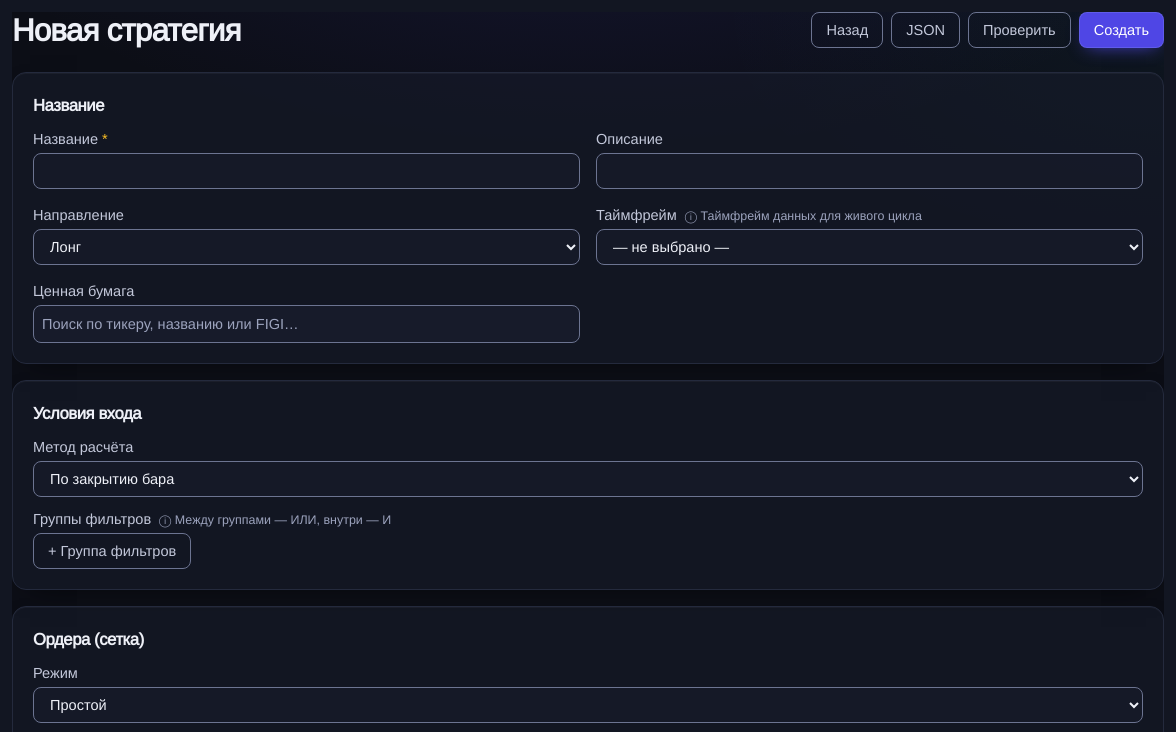
Scenario: MVP-7.5 U9: «Ценная бумага» › пустой выбор — ошибка бэкенда привязана к полю «Ценная бумага»
Check: the heading "Новая стратегия" is shown, box left=12, top=12, right=241, bottom=48
Click the button "Проверить" at (1019, 30), box left=968, top=12, right=1071, bottom=48
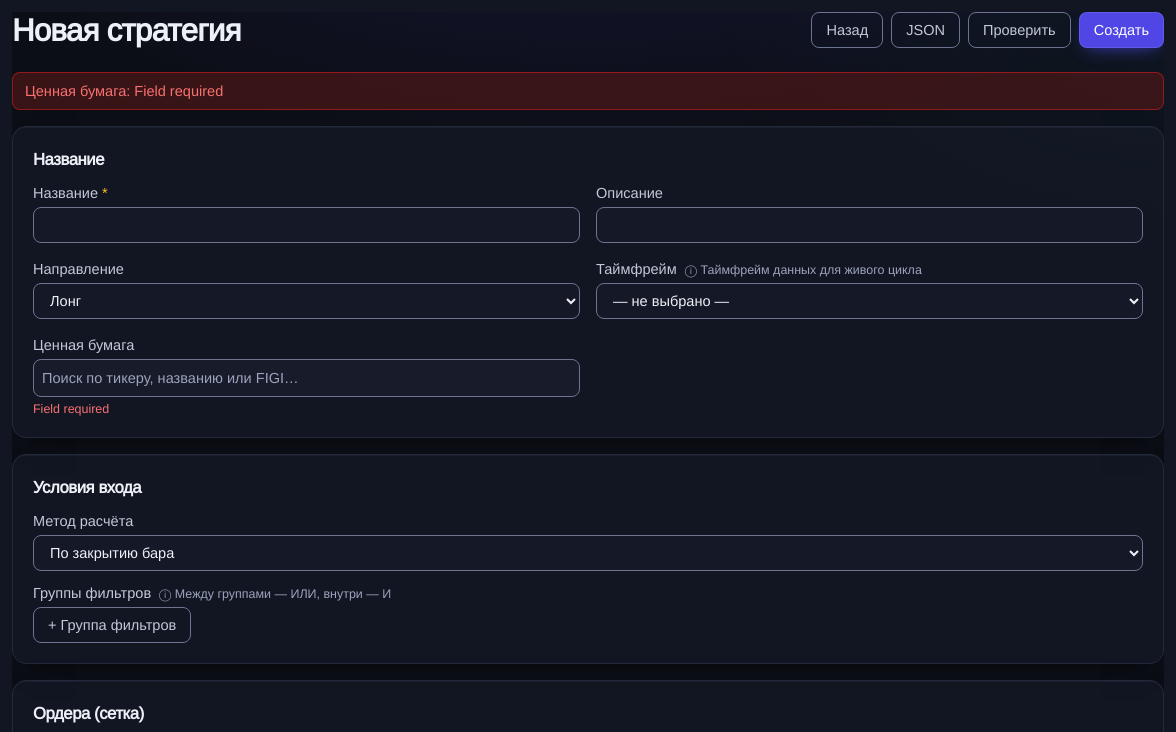
Check: the text "Ценная бумага: Field required" is shown, box left=12, top=72, right=1164, bottom=110
